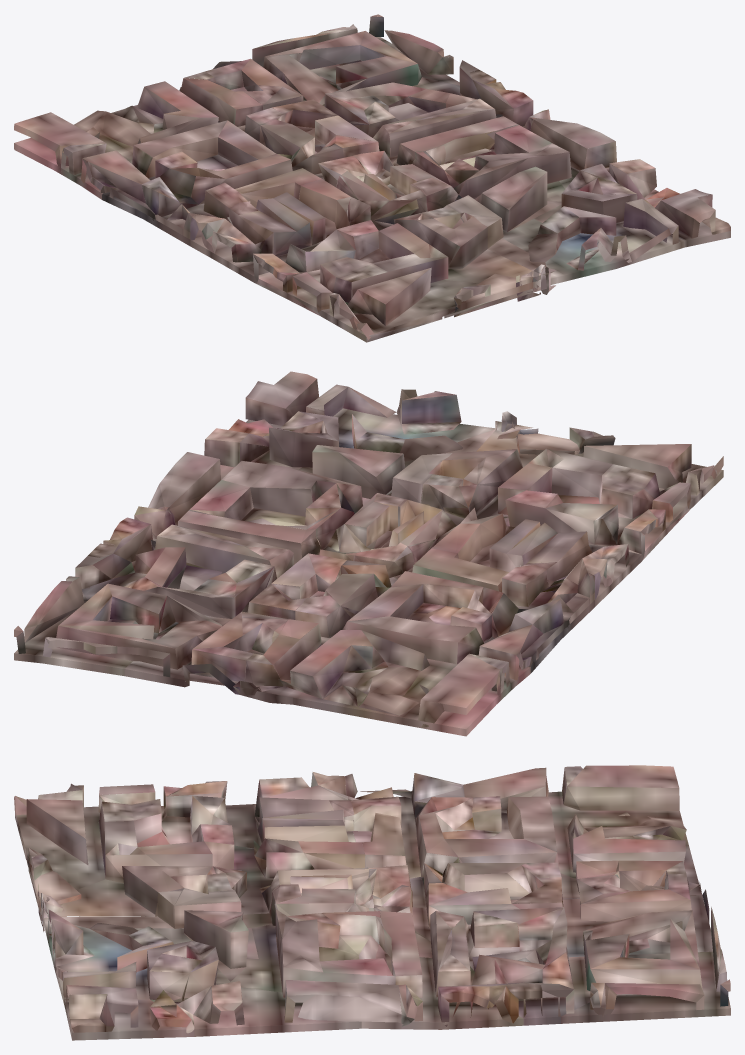
The picture shows the model from 3 angles, top to bottom: view 1: azimuth 30°, elevation 25°; view 2: azimuth 150°, elevation 25°; view 3: azimuth 270°, elevation 25°; orthographic projection. The views are drawn at different scales.
Parts seen in each view (by area): view 1: Mesh_0; view 2: Mesh_0; view 3: Mesh_0.
Part boxes in pixels (bbox=[...]): Mesh_0: bbox=[14, 14, 730, 342]; Mesh_0: bbox=[14, 371, 723, 736]; Mesh_0: bbox=[14, 765, 730, 1040].
Size of the model in its own units: 532 by 56.73 by 660.
Materials: 2 (2 with a texture image).
